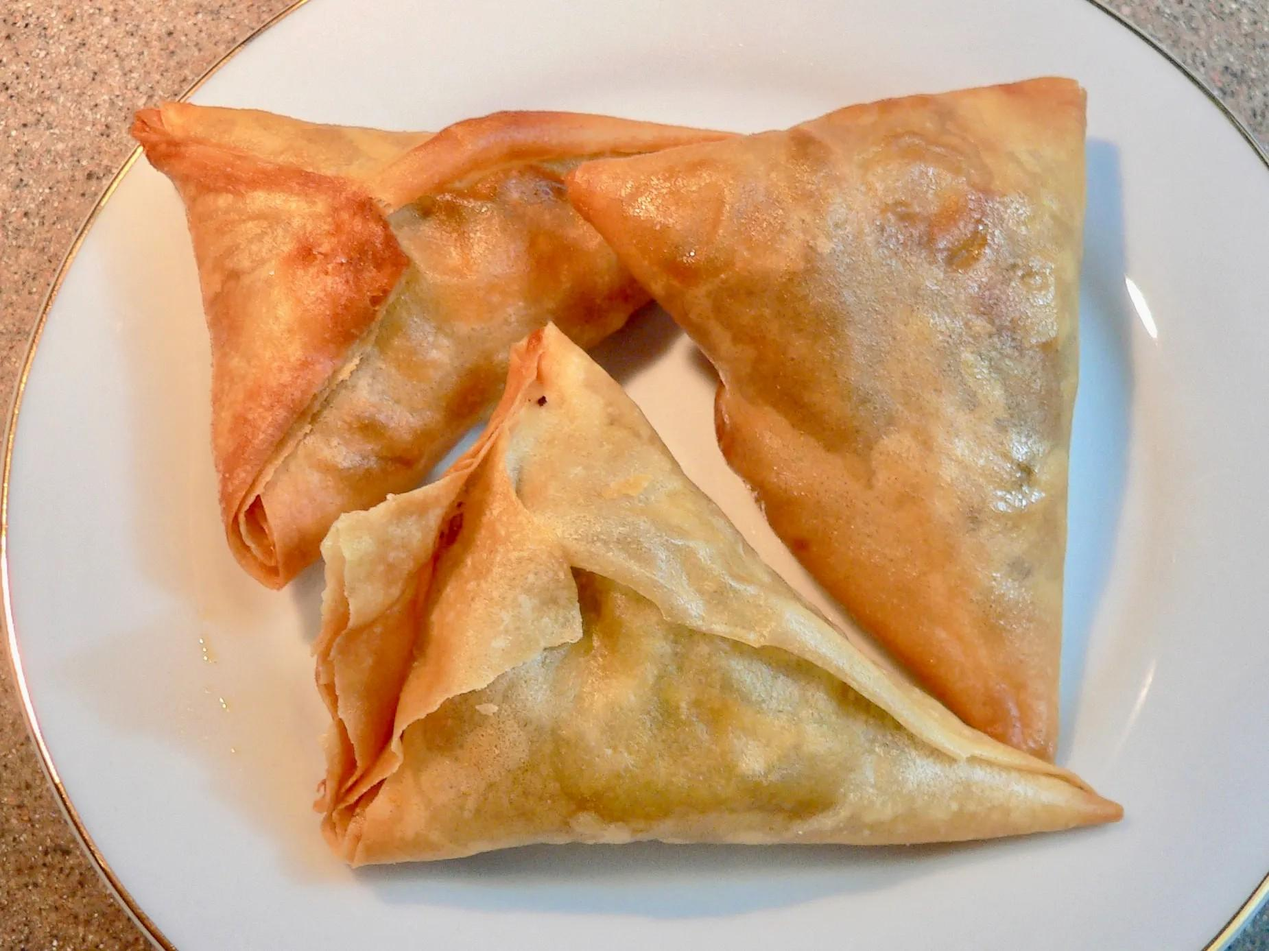Samosa: (304, 321, 1123, 865), (565, 79, 1099, 750), (133, 95, 755, 592)
